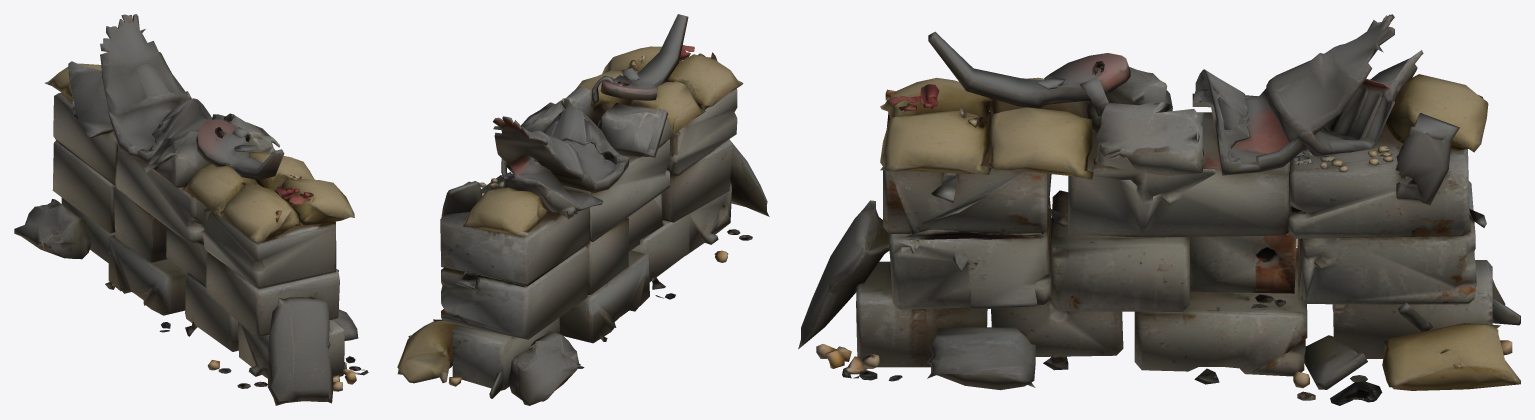
Rendered from barricade.glb.
The picture shows the model from 3 angles, left to right: view 1: azimuth 30°, elevation 25°; view 2: azimuth 150°, elevation 25°; view 3: azimuth 270°, elevation 25°; orthographic projection. The views are drawn at different scales.
Visible parts, largest first — view 1: tripo_node_c4ef123c-9fc5-47eb-aabc-21dd8fe9118d; view 2: tripo_node_c4ef123c-9fc5-47eb-aabc-21dd8fe9118d; view 3: tripo_node_c4ef123c-9fc5-47eb-aabc-21dd8fe9118d.
Boxes of the visible parts, bbox=[...] form: tripo_node_c4ef123c-9fc5-47eb-aabc-21dd8fe9118d: bbox=[14, 14, 368, 405]; tripo_node_c4ef123c-9fc5-47eb-aabc-21dd8fe9118d: bbox=[397, 14, 769, 405]; tripo_node_c4ef123c-9fc5-47eb-aabc-21dd8fe9118d: bbox=[798, 14, 1520, 405].
Size of the model in its own units: 0.3809 by 0.5098 by 0.998.
Materials: 1 (1 with a texture image).
